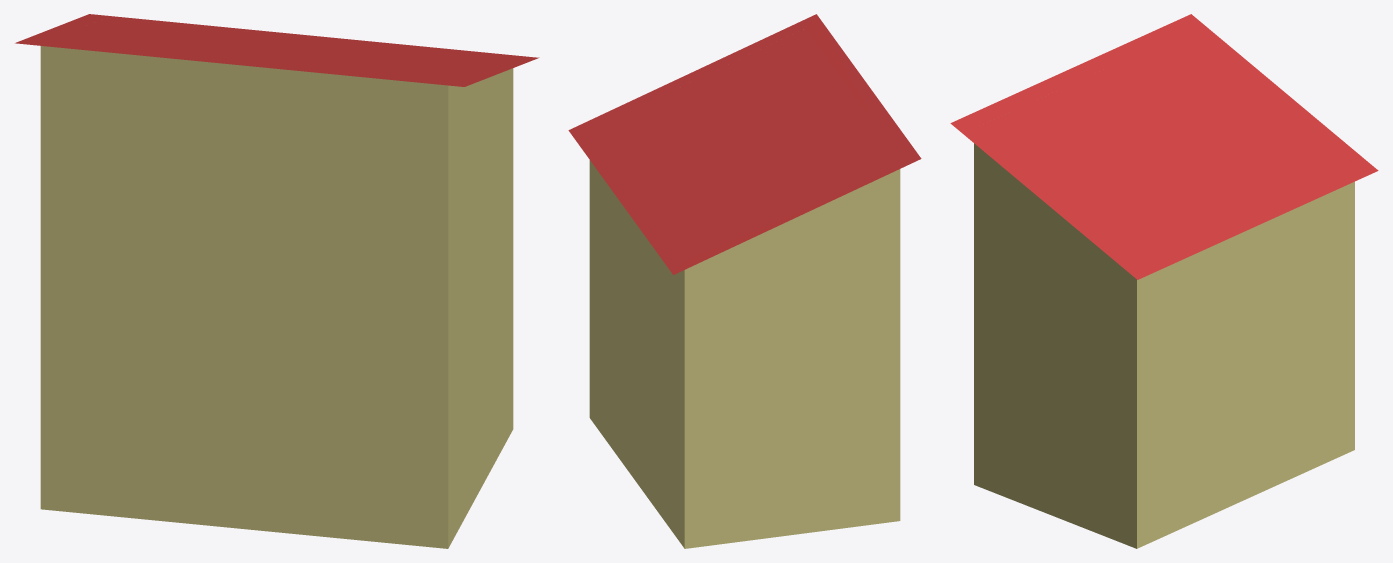
The picture shows the model from 3 angles, left to right: view 1: azimuth 30°, elevation 25°; view 2: azimuth 150°, elevation 25°; view 3: azimuth 270°, elevation 25°; orthographic projection. The views are drawn at different scales.
Bounding box in the file's own units: 6.43 × 6.35 × 5.92.
